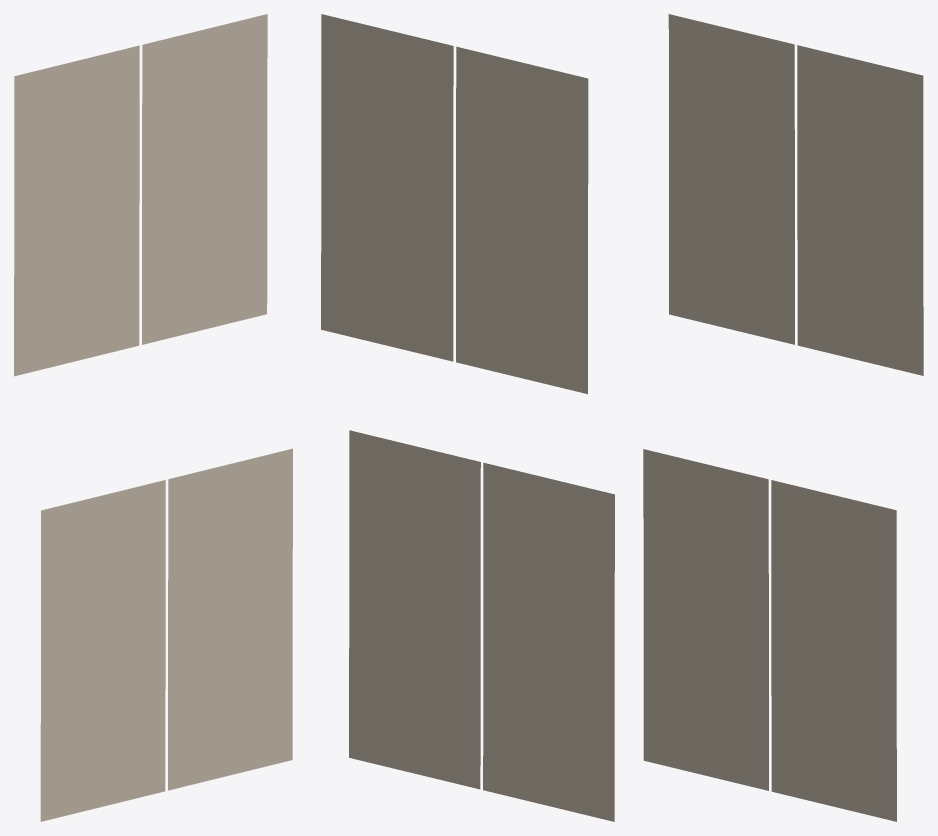
Rendered from cloth-copperarmor.glb.
The picture shows the model from 3 angles, left to right: view 1: azimuth 30°, elevation 25°; view 2: azimuth 150°, elevation 25°; view 3: azimuth 330°, elevation 25°; orthographic projection. The views are drawn at different scales.
Bounding box in the file's own units: 0.4608 × 1.26 × 0.0847.
